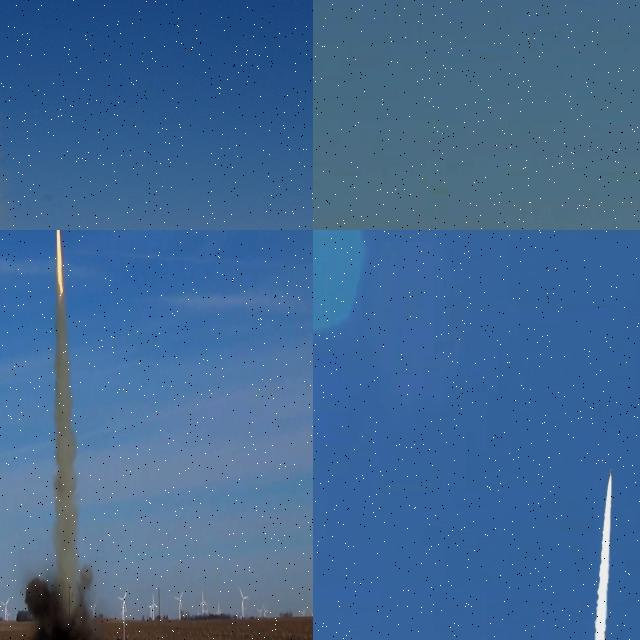Rocket: (610, 469, 612, 477)
